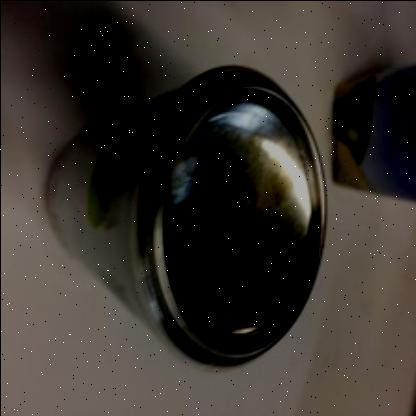Can: (38, 70, 326, 368)
